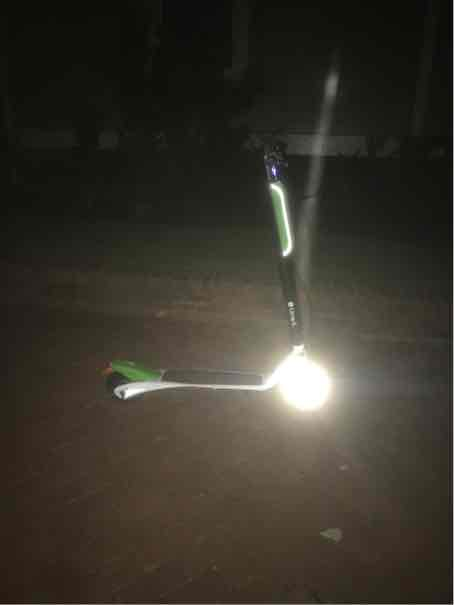scooter: (89, 131, 332, 412)
